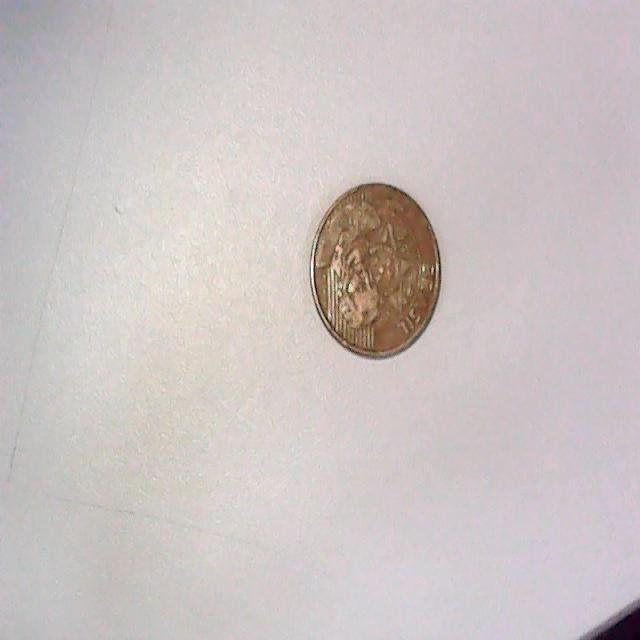25 cents: (305, 177, 450, 365)
